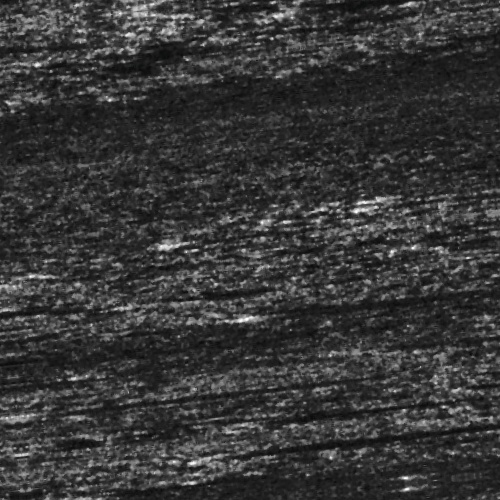object: (8, 471, 133, 480), (268, 11, 361, 22), (127, 229, 232, 238), (148, 444, 253, 453), (170, 417, 263, 424), (202, 310, 275, 317), (0, 385, 58, 390)
shadow: (201, 444, 483, 453), (314, 11, 500, 22), (21, 385, 352, 390), (216, 417, 429, 424), (239, 310, 447, 317), (71, 471, 206, 480), (180, 229, 314, 238), (0, 352, 83, 361)
